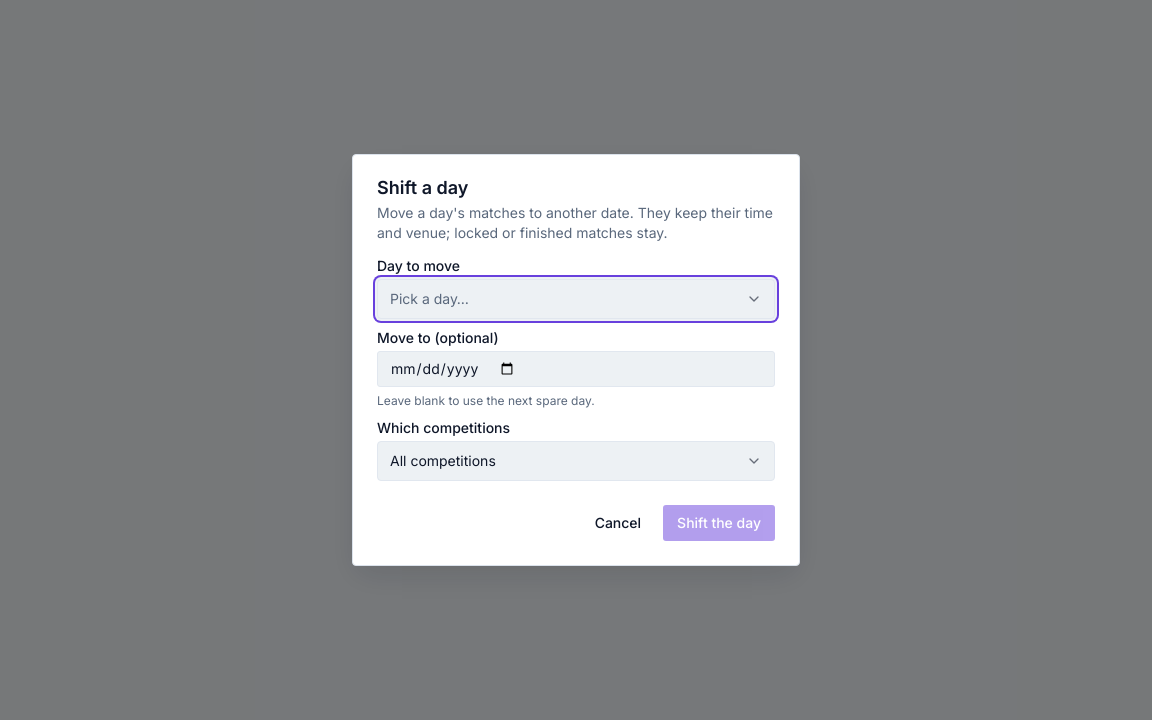
ShiftDayDialog › offers only days holding movable, unlocked matches (with counts)
Click the button with aria-label "Day to move" at (429, 298), box [377,279,775,319]
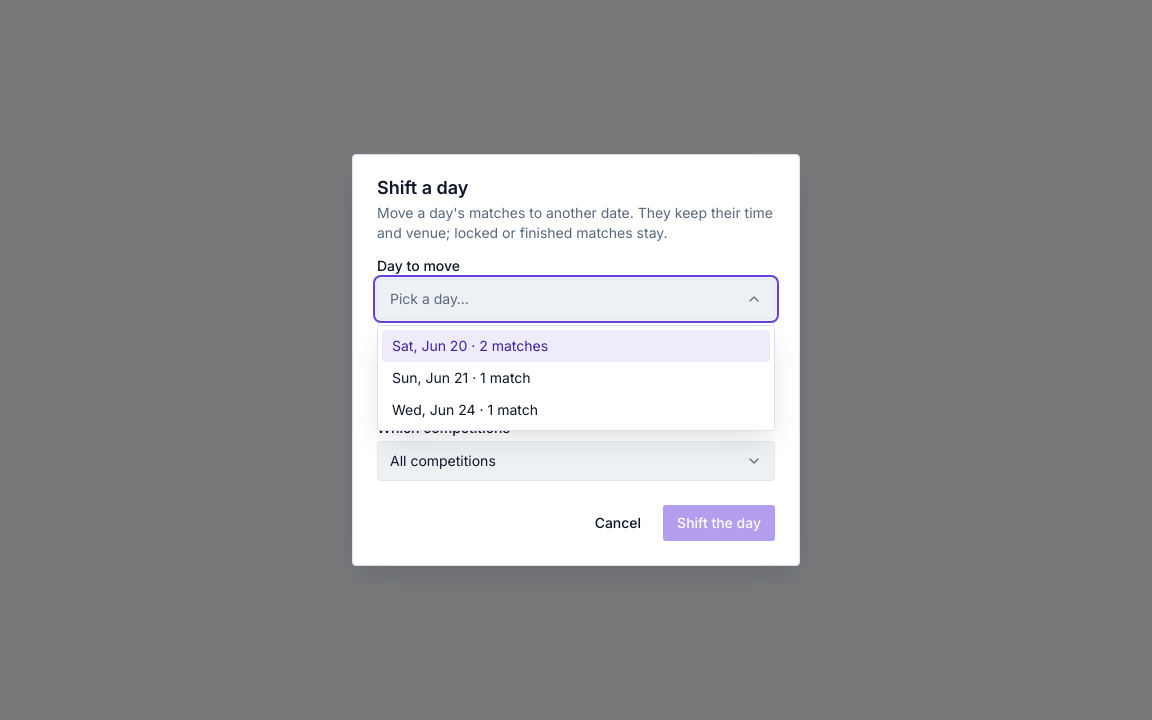
Now the number of options is 3, box [382,330,770,362]; [392,369,531,386]; [392,401,538,418]
